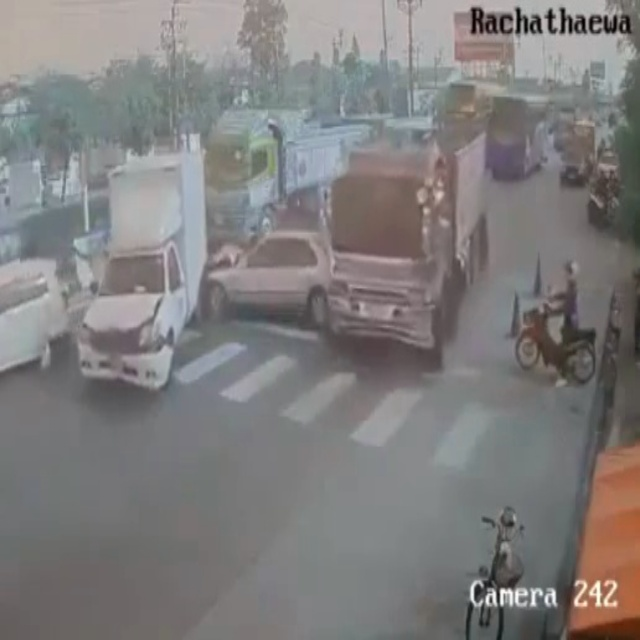acc: (77, 233, 343, 393)
